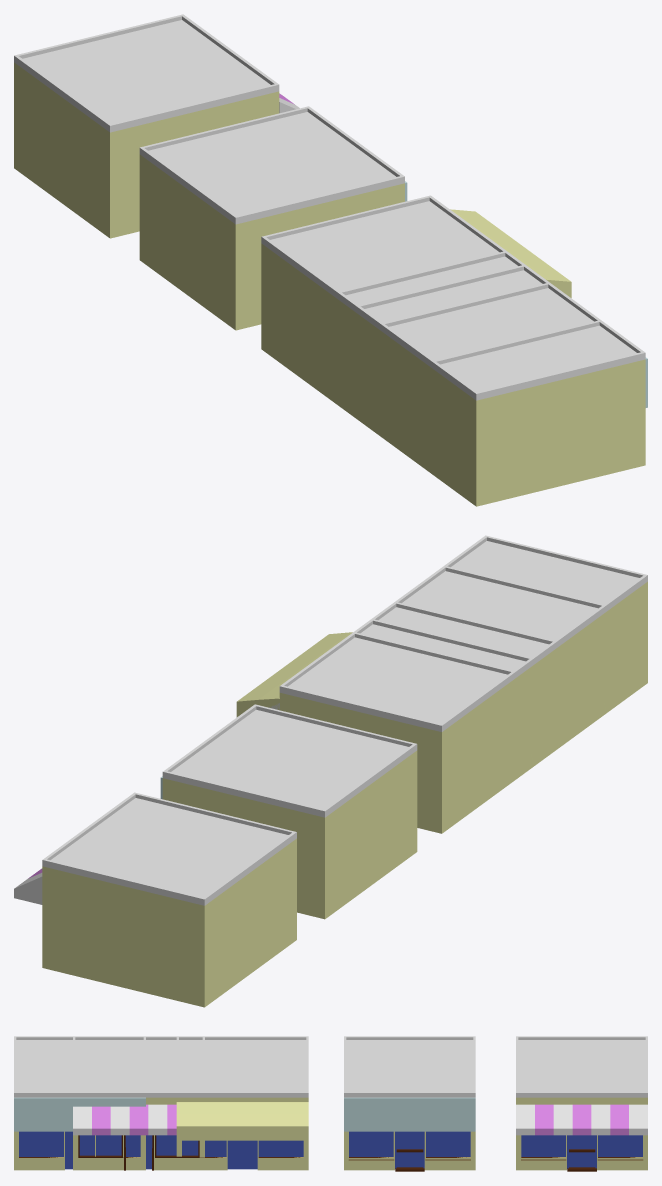
The model's file is toko1.glb.
The picture shows the model from 3 angles, top to bottom: view 1: azimuth 30°, elevation 25°; view 2: azimuth 150°, elevation 25°; view 3: azimuth 270°, elevation 25°; orthographic projection. The views are drawn at different scales.
Parts seen in each view (by area): view 1: Cube, Cube016, Cube021, Cube014, Cube004, Cube017, Cube043, Cube001, Cube005, Cube042, Cube006; view 2: Cube014, Cube016, Cube021, Cube004, Cube017, Cube005, Cube043, Cube001, Cube, Cube042, Cube006, Cube010; view 3: Cube021, Cube016, Cube004, Cube043, Cube014, Cube006, Cube017, Cube015, Cube001, Cube, Cube010, Cube005 (+4 smaller).
Boxes of the visible parts, <box> form: Cube: <box>380,358,645,506</box>; Cube016: <box>139,106,404,224</box>; Cube021: <box>14,14,279,132</box>; Cube014: <box>14,62,279,238</box>; Cube004: <box>261,195,526,313</box>; Cube017: <box>139,154,404,330</box>; Cube043: <box>340,251,601,368</box>; Cube001: <box>380,283,645,400</box>; Cube005: <box>261,243,357,419</box>; Cube042: <box>357,314,433,474</box>; Cube006: <box>450,209,571,297</box>; Cube014: <box>42,838,296,1007</box>; Cube016: <box>162,704,417,817</box>; Cube021: <box>42,792,296,905</box>; Cube004: <box>279,619,533,731</box>; Cube017: <box>162,750,417,919</box>; Cube005: <box>279,665,533,833</box>; Cube043: <box>355,565,606,674</box>; Cube001: <box>396,535,647,644</box>; Cube: <box>559,581,647,724</box>; Cube042: <box>533,612,606,765</box>; Cube006: <box>236,632,352,717</box>; Cube010: <box>14,868,42,904</box>; Cube021: <box>516,1036,647,1097</box>; Cube016: <box>344,1036,475,1097</box>; Cube004: <box>176,1036,308,1097</box>; Cube043: <box>73,1036,204,1097</box>; Cube014: <box>516,1097,647,1170</box>; Cube006: <box>176,1102,308,1140</box>; Cube017: <box>344,1131,475,1170</box>; Cube015: <box>344,1097,475,1131</box>; Cube001: <box>14,1036,145,1097</box>; Cube: <box>14,1131,145,1170</box>; Cube010: <box>516,1104,647,1135</box>; Cube005: <box>176,1097,308,1170</box>.
Size of the model in its own units: 494 by 248 by 1848.
